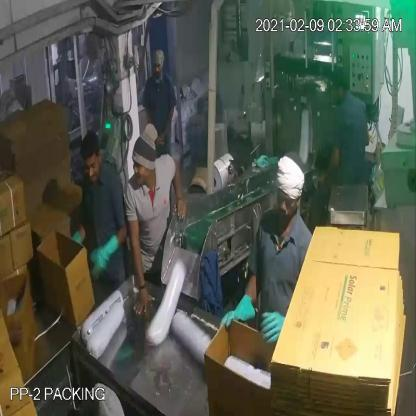glove: (210, 284, 258, 342), (254, 306, 291, 355), (88, 230, 121, 282)
no_glove: (124, 205, 153, 328), (312, 136, 347, 192), (164, 154, 188, 226), (153, 96, 176, 147)
